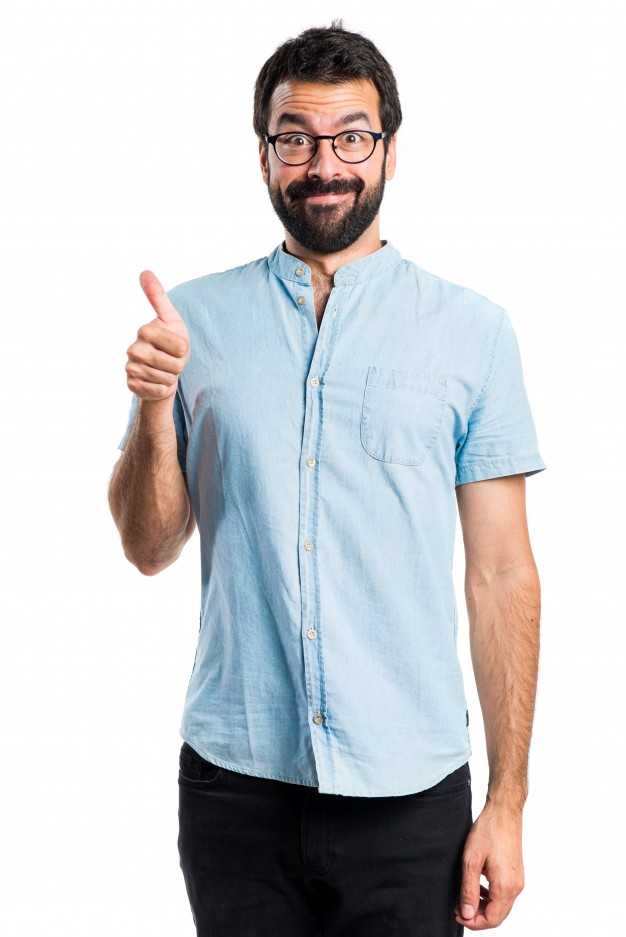thumbsup: (126, 270, 189, 397)
